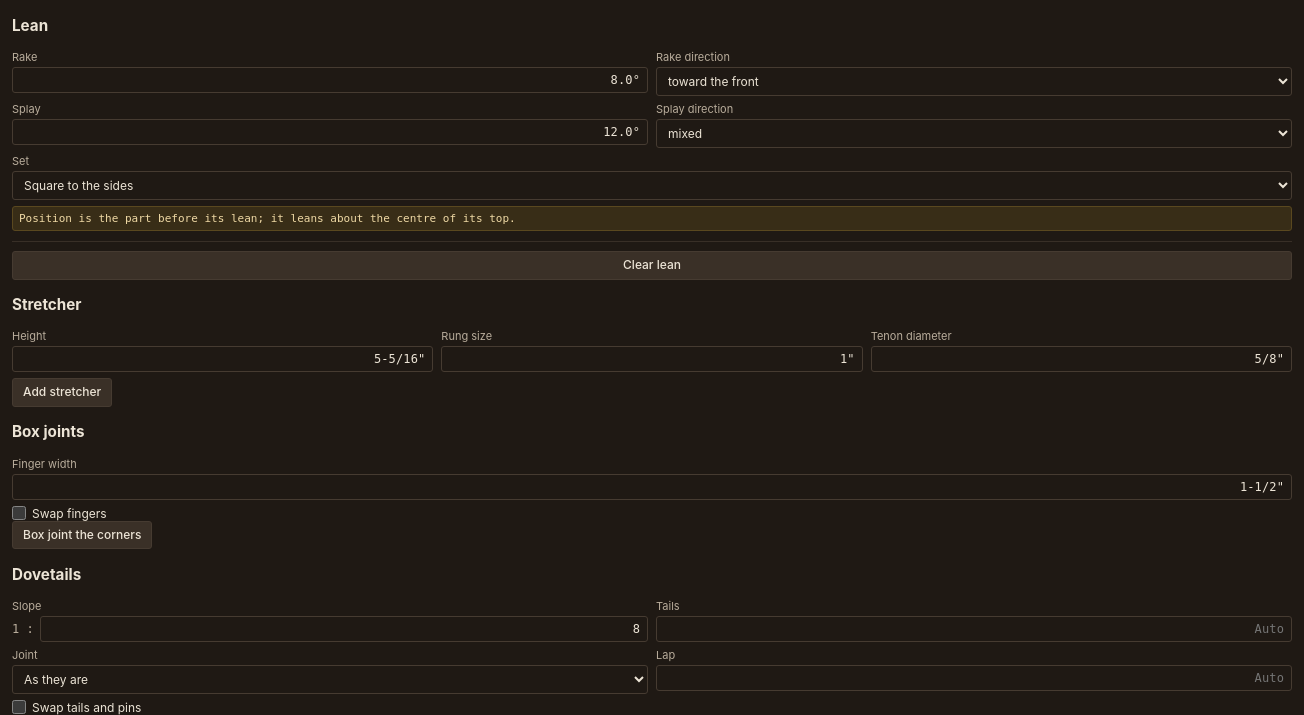
the Stretcher section, review fix round 1 › M3: a Height commit clears the alert
(page scrolled)
Replace the text in the field labelled "Height" with "16-1/2" at [223, 359], box left=12, top=346, right=433, bottom=372
Then press Enter
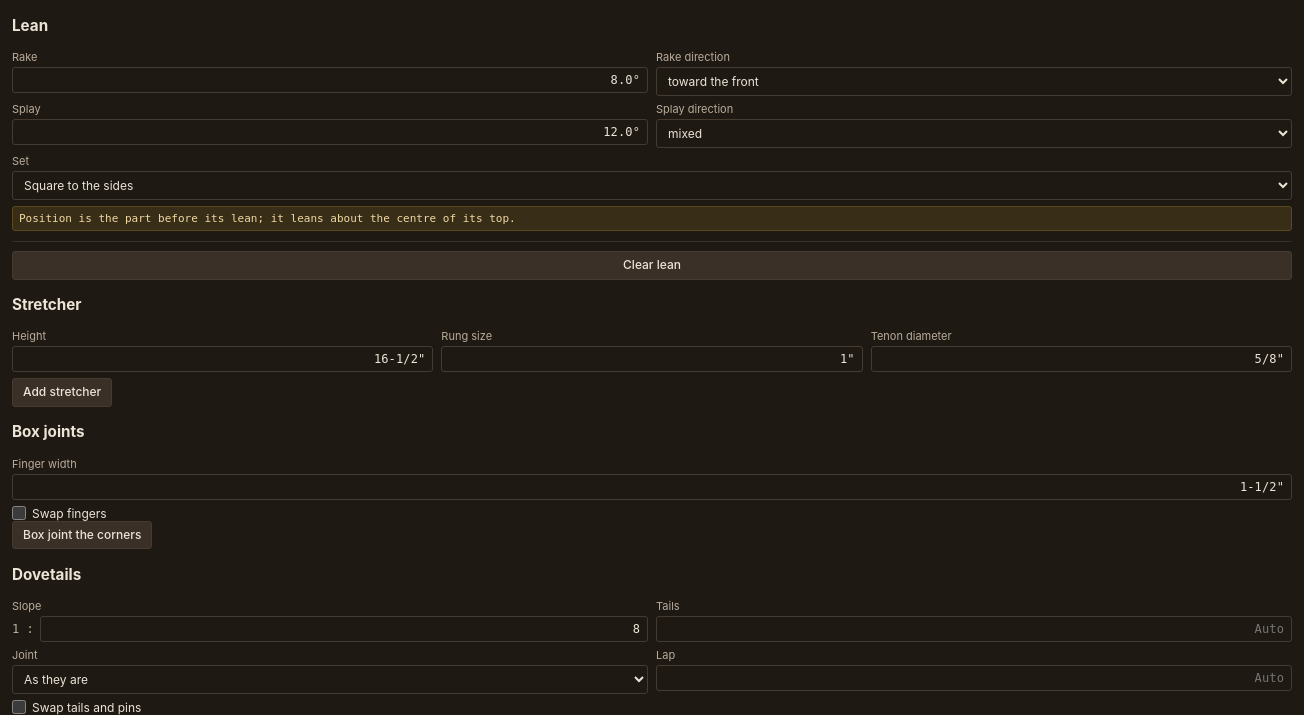
Click the button "Add stretcher" at [62, 393], box left=12, top=378, right=112, bottom=407
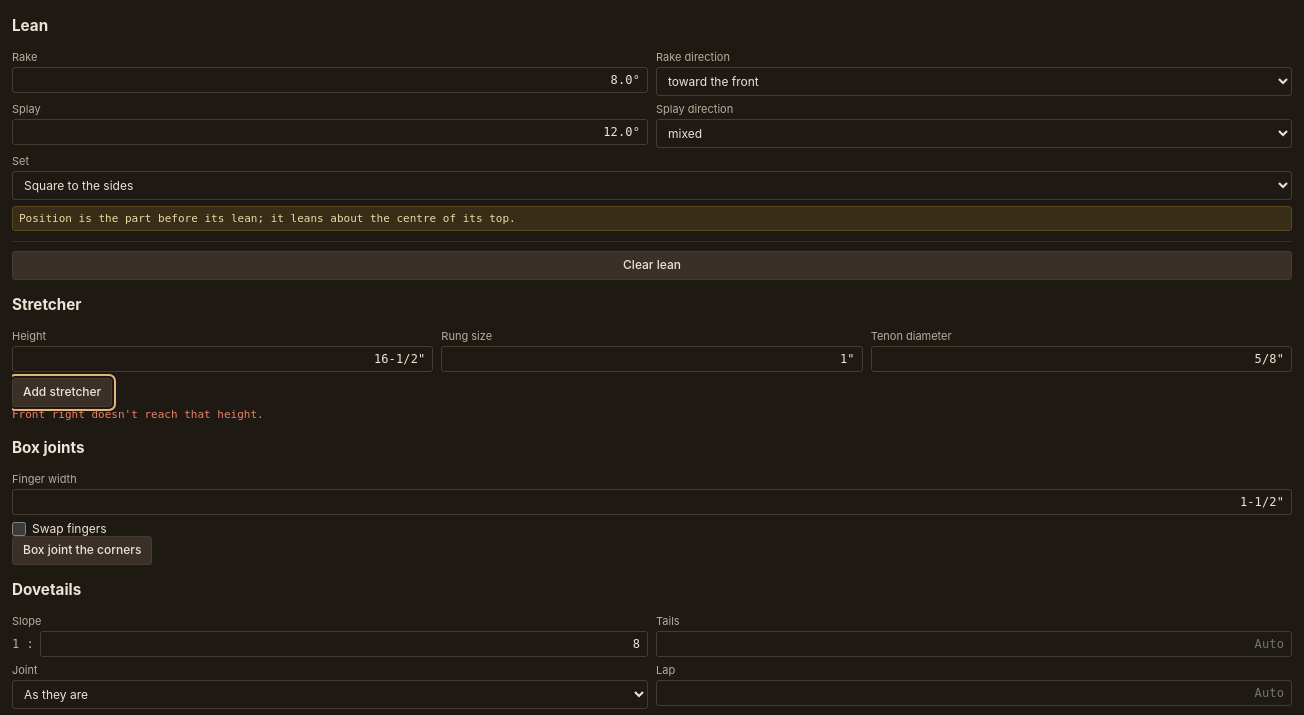
Now the message "Front right doesn't reach that height." is shown, box left=12, top=408, right=264, bottom=421
Replace the text in the field labelled "Height" with "6" at [223, 359], box left=12, top=346, right=433, bottom=372
Then press Enter
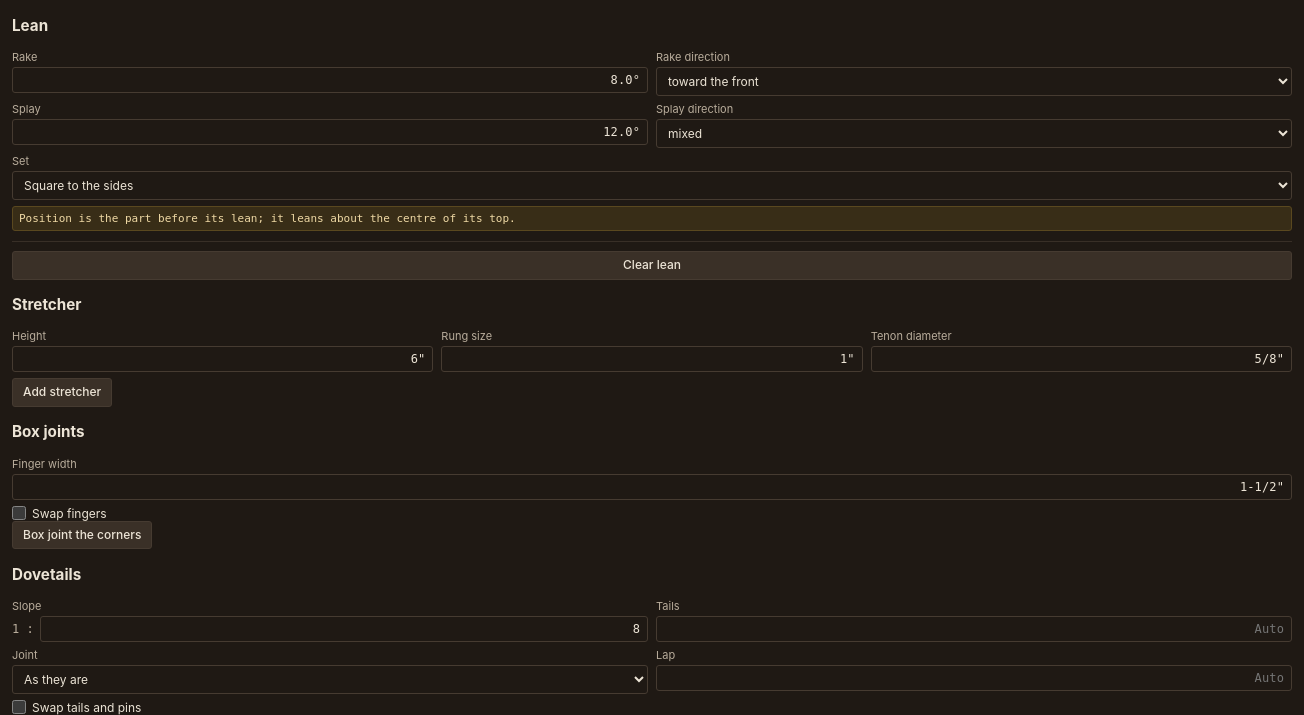
Now the message "Front right doesn't reach that height." is gone
